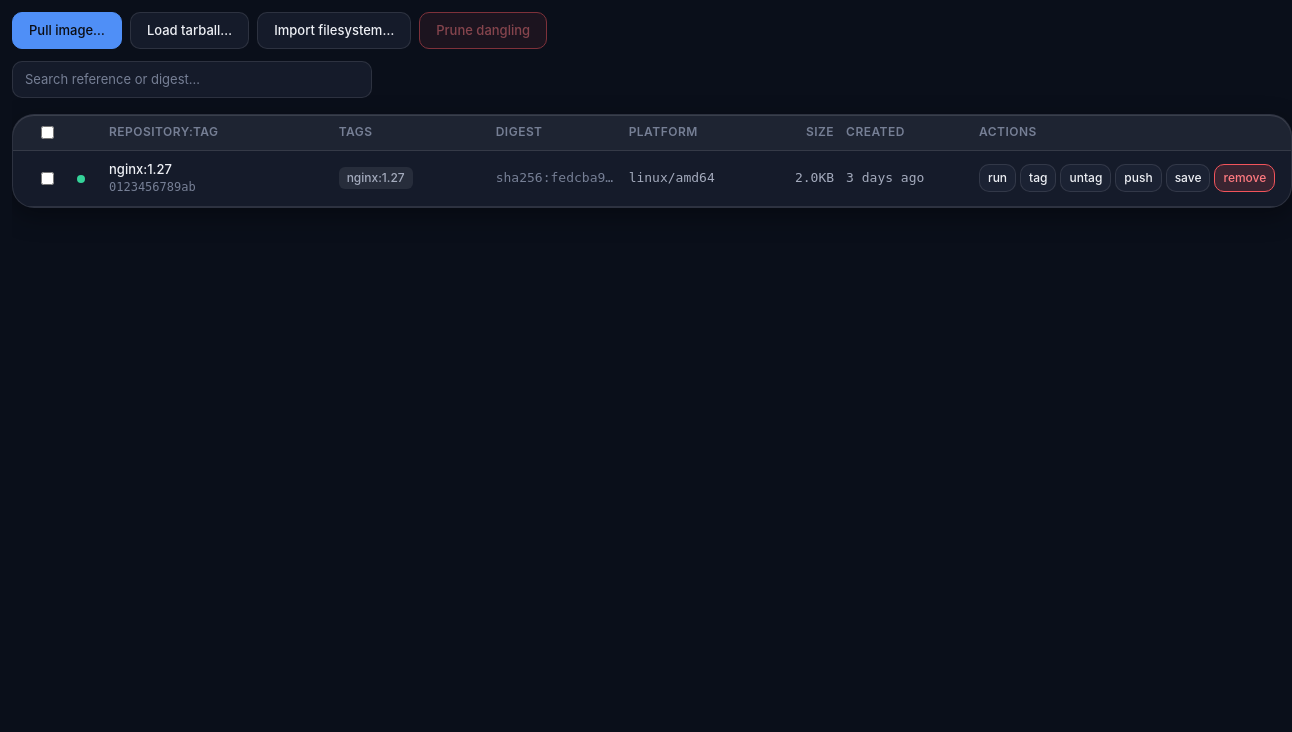
Test: ImagesScreen — save to tarball (plan-docker_management_app/REQ-42) › downloads a single image's tarball via the row action, with no dialog opened first
Click the button "save": (1188, 178) [1166,164,1210,192]
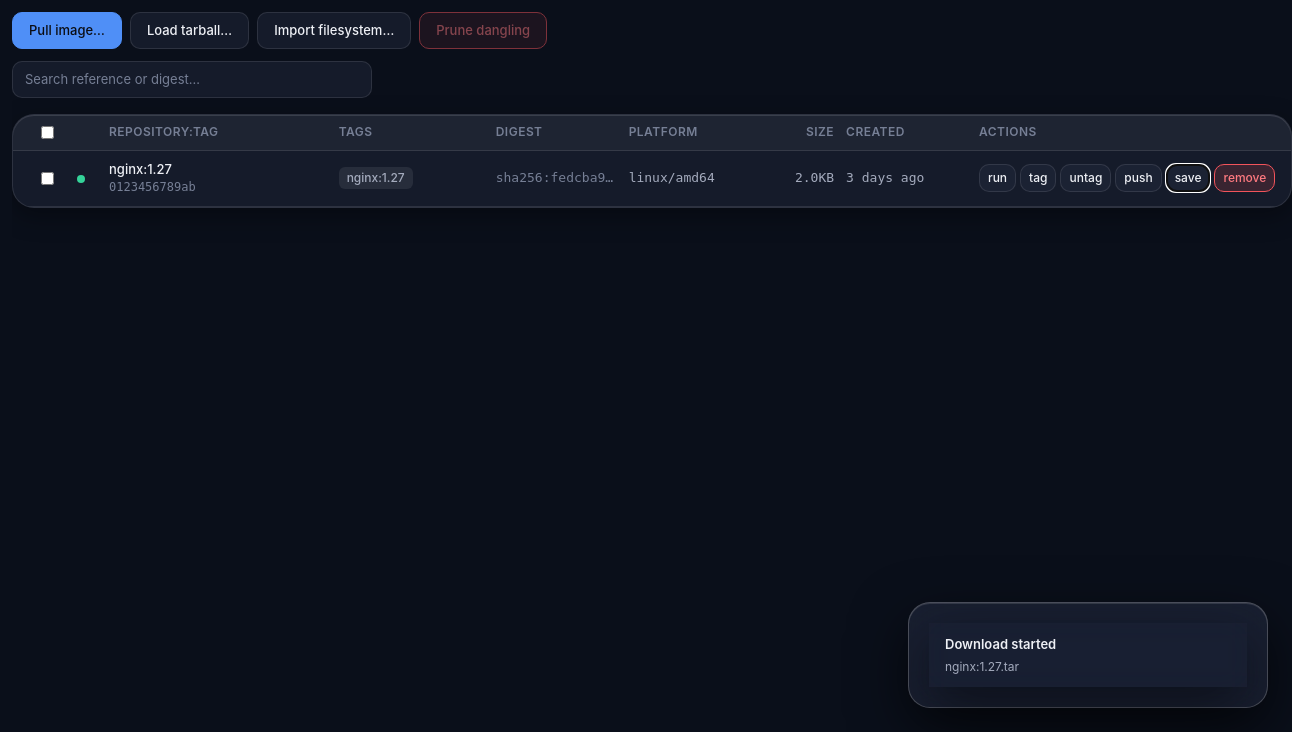
Expected: the text "Download started" is shown, [945,636,1056,652]
Expected: the text "nginx:1.27.tar" is shown, [945,659,1019,674]
